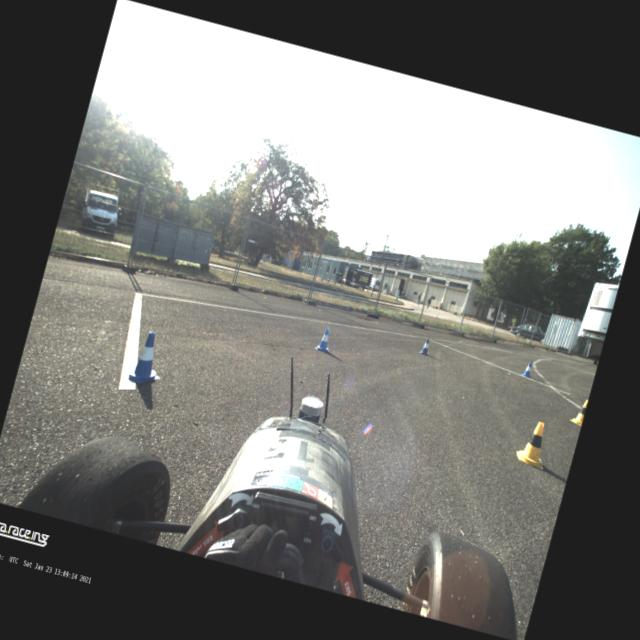blue_cone: (121, 327, 170, 388), (314, 326, 334, 352), (418, 336, 432, 356), (520, 360, 535, 378)
yellow_cone: (514, 418, 554, 469), (568, 396, 588, 426)
